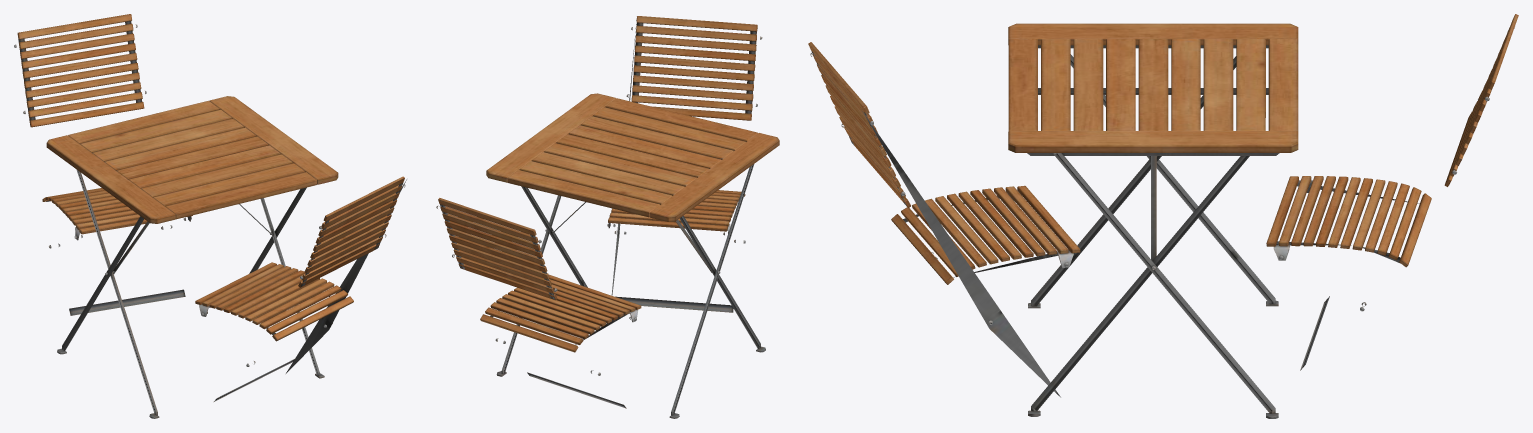
File: bistro.glb
3 renders of one model, left to right at view 1: azimuth 30°, elevation 25°; view 2: azimuth 150°, elevation 25°; view 3: azimuth 270°, elevation 25°, orthographic. The views are drawn at different scales.
Parts seen in each view (by area): view 1: outdoor_table_chair_set_01_chair_01; view 2: outdoor_table_chair_set_01_chair_01; view 3: outdoor_table_chair_set_01_chair_01.
Part boxes in pixels (x1,y1,x2,y2): outdoor_table_chair_set_01_chair_01: (14, 14, 406, 418); outdoor_table_chair_set_01_chair_01: (436, 16, 779, 418); outdoor_table_chair_set_01_chair_01: (808, 14, 1518, 418).
Size of the model in its own units: 0.7404 by 0.8482 by 1.7.
Materials: 1 (1 with a texture image).
